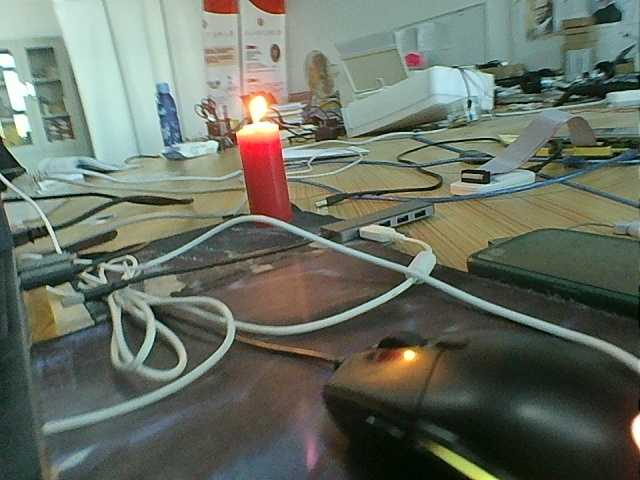candle: (231, 128, 299, 234)
fire: (236, 90, 276, 124)
